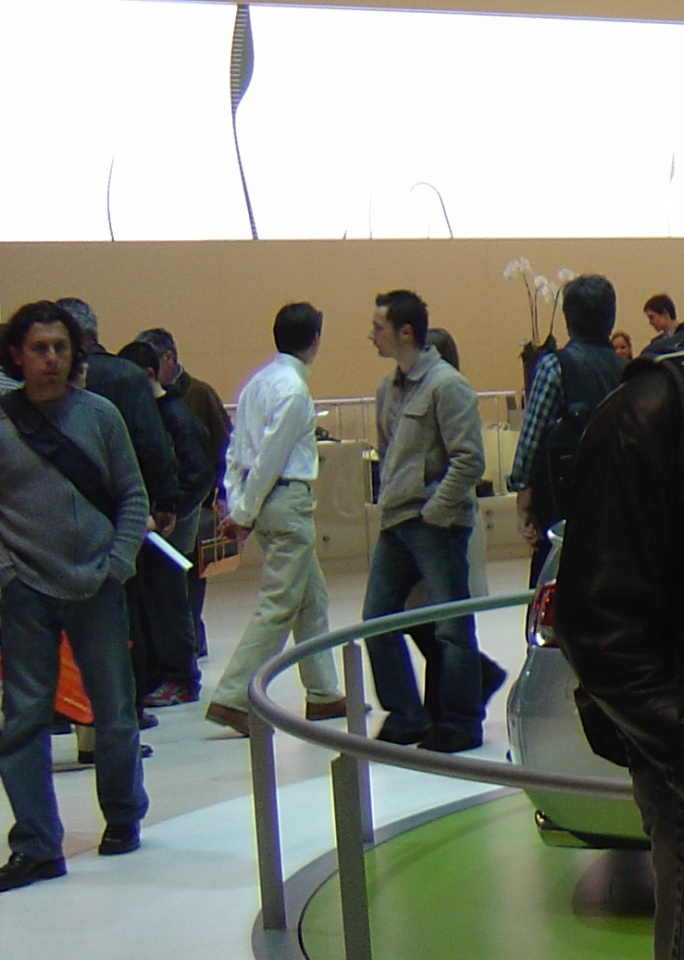person: (356, 286, 482, 752), (221, 295, 342, 740)
